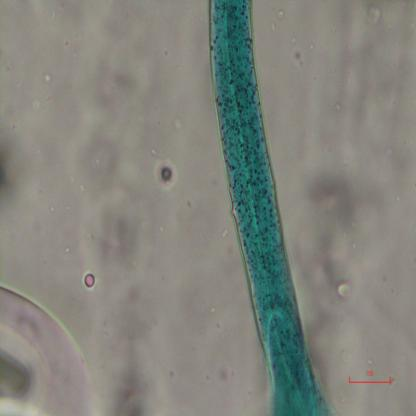Background material: (96, 176, 161, 415), (0, 280, 94, 416), (297, 166, 357, 375), (57, 126, 120, 186), (0, 102, 35, 202), (210, 354, 237, 390), (154, 155, 178, 193), (80, 265, 98, 294), (366, 6, 384, 32), (285, 42, 306, 63), (170, 113, 186, 134), (40, 67, 54, 86), (277, 4, 289, 23), (269, 22, 278, 34), (62, 246, 70, 254)
Microfibre: (206, 0, 337, 414)
